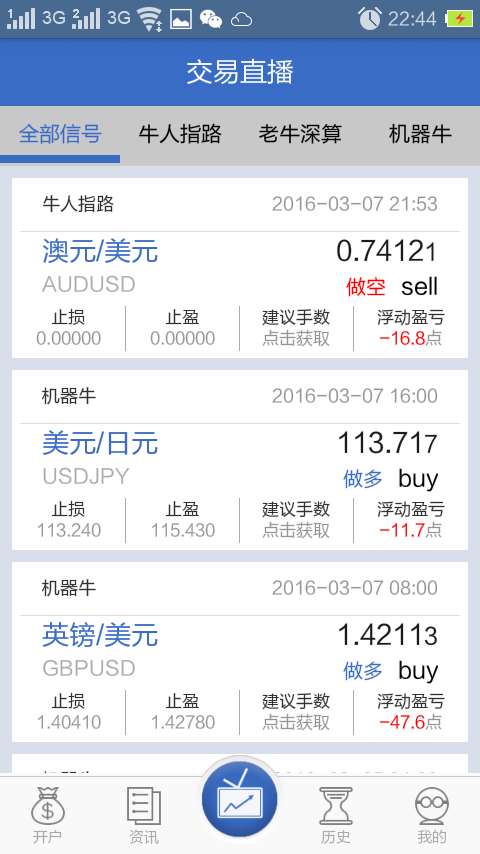nav: (5, 771, 479, 849)
